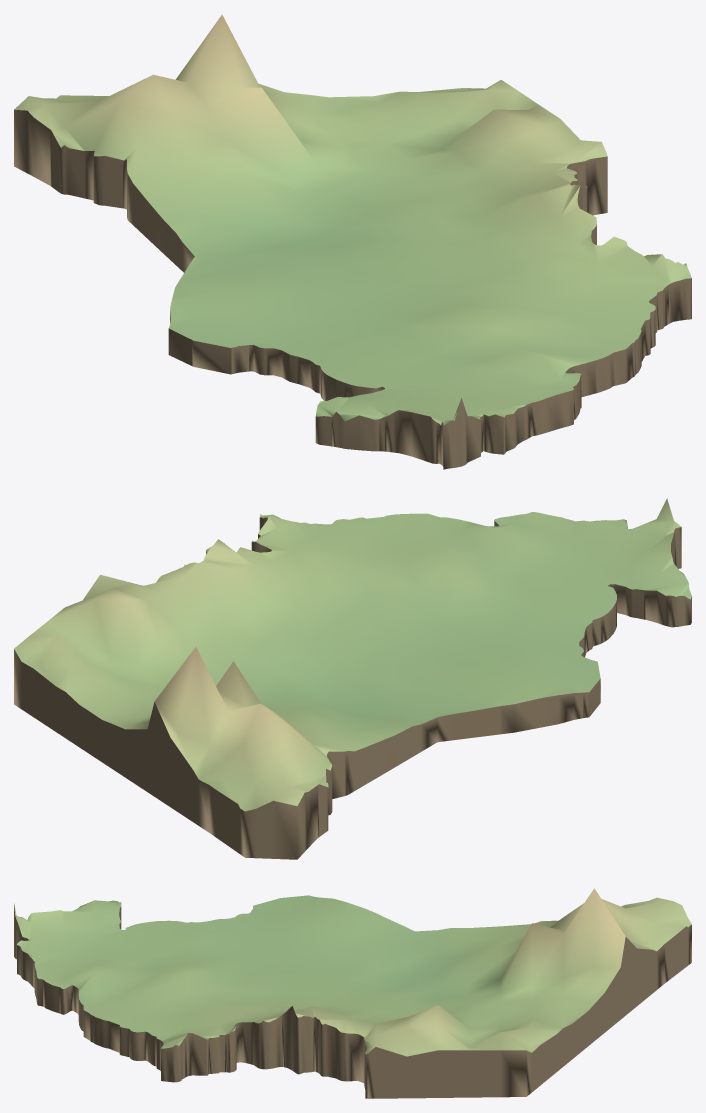
Rendered from TCD.glb.
3 views of the same model, one above another, from view 1: azimuth 30°, elevation 25°; view 2: azimuth 150°, elevation 25°; view 3: azimuth 270°, elevation 25° (orthographic). The views are drawn at different scales.
Parts seen in each view (by area): view 1: TCD; view 2: TCD; view 3: TCD.
Boxes of the visible parts, box(x1,y1,x2,y2) form: TCD: box(14, 14, 691, 469); TCD: box(14, 498, 691, 859); TCD: box(14, 888, 691, 1098).
Bounding box in the file's own units: 1.12 × 0.338 × 1.76.
